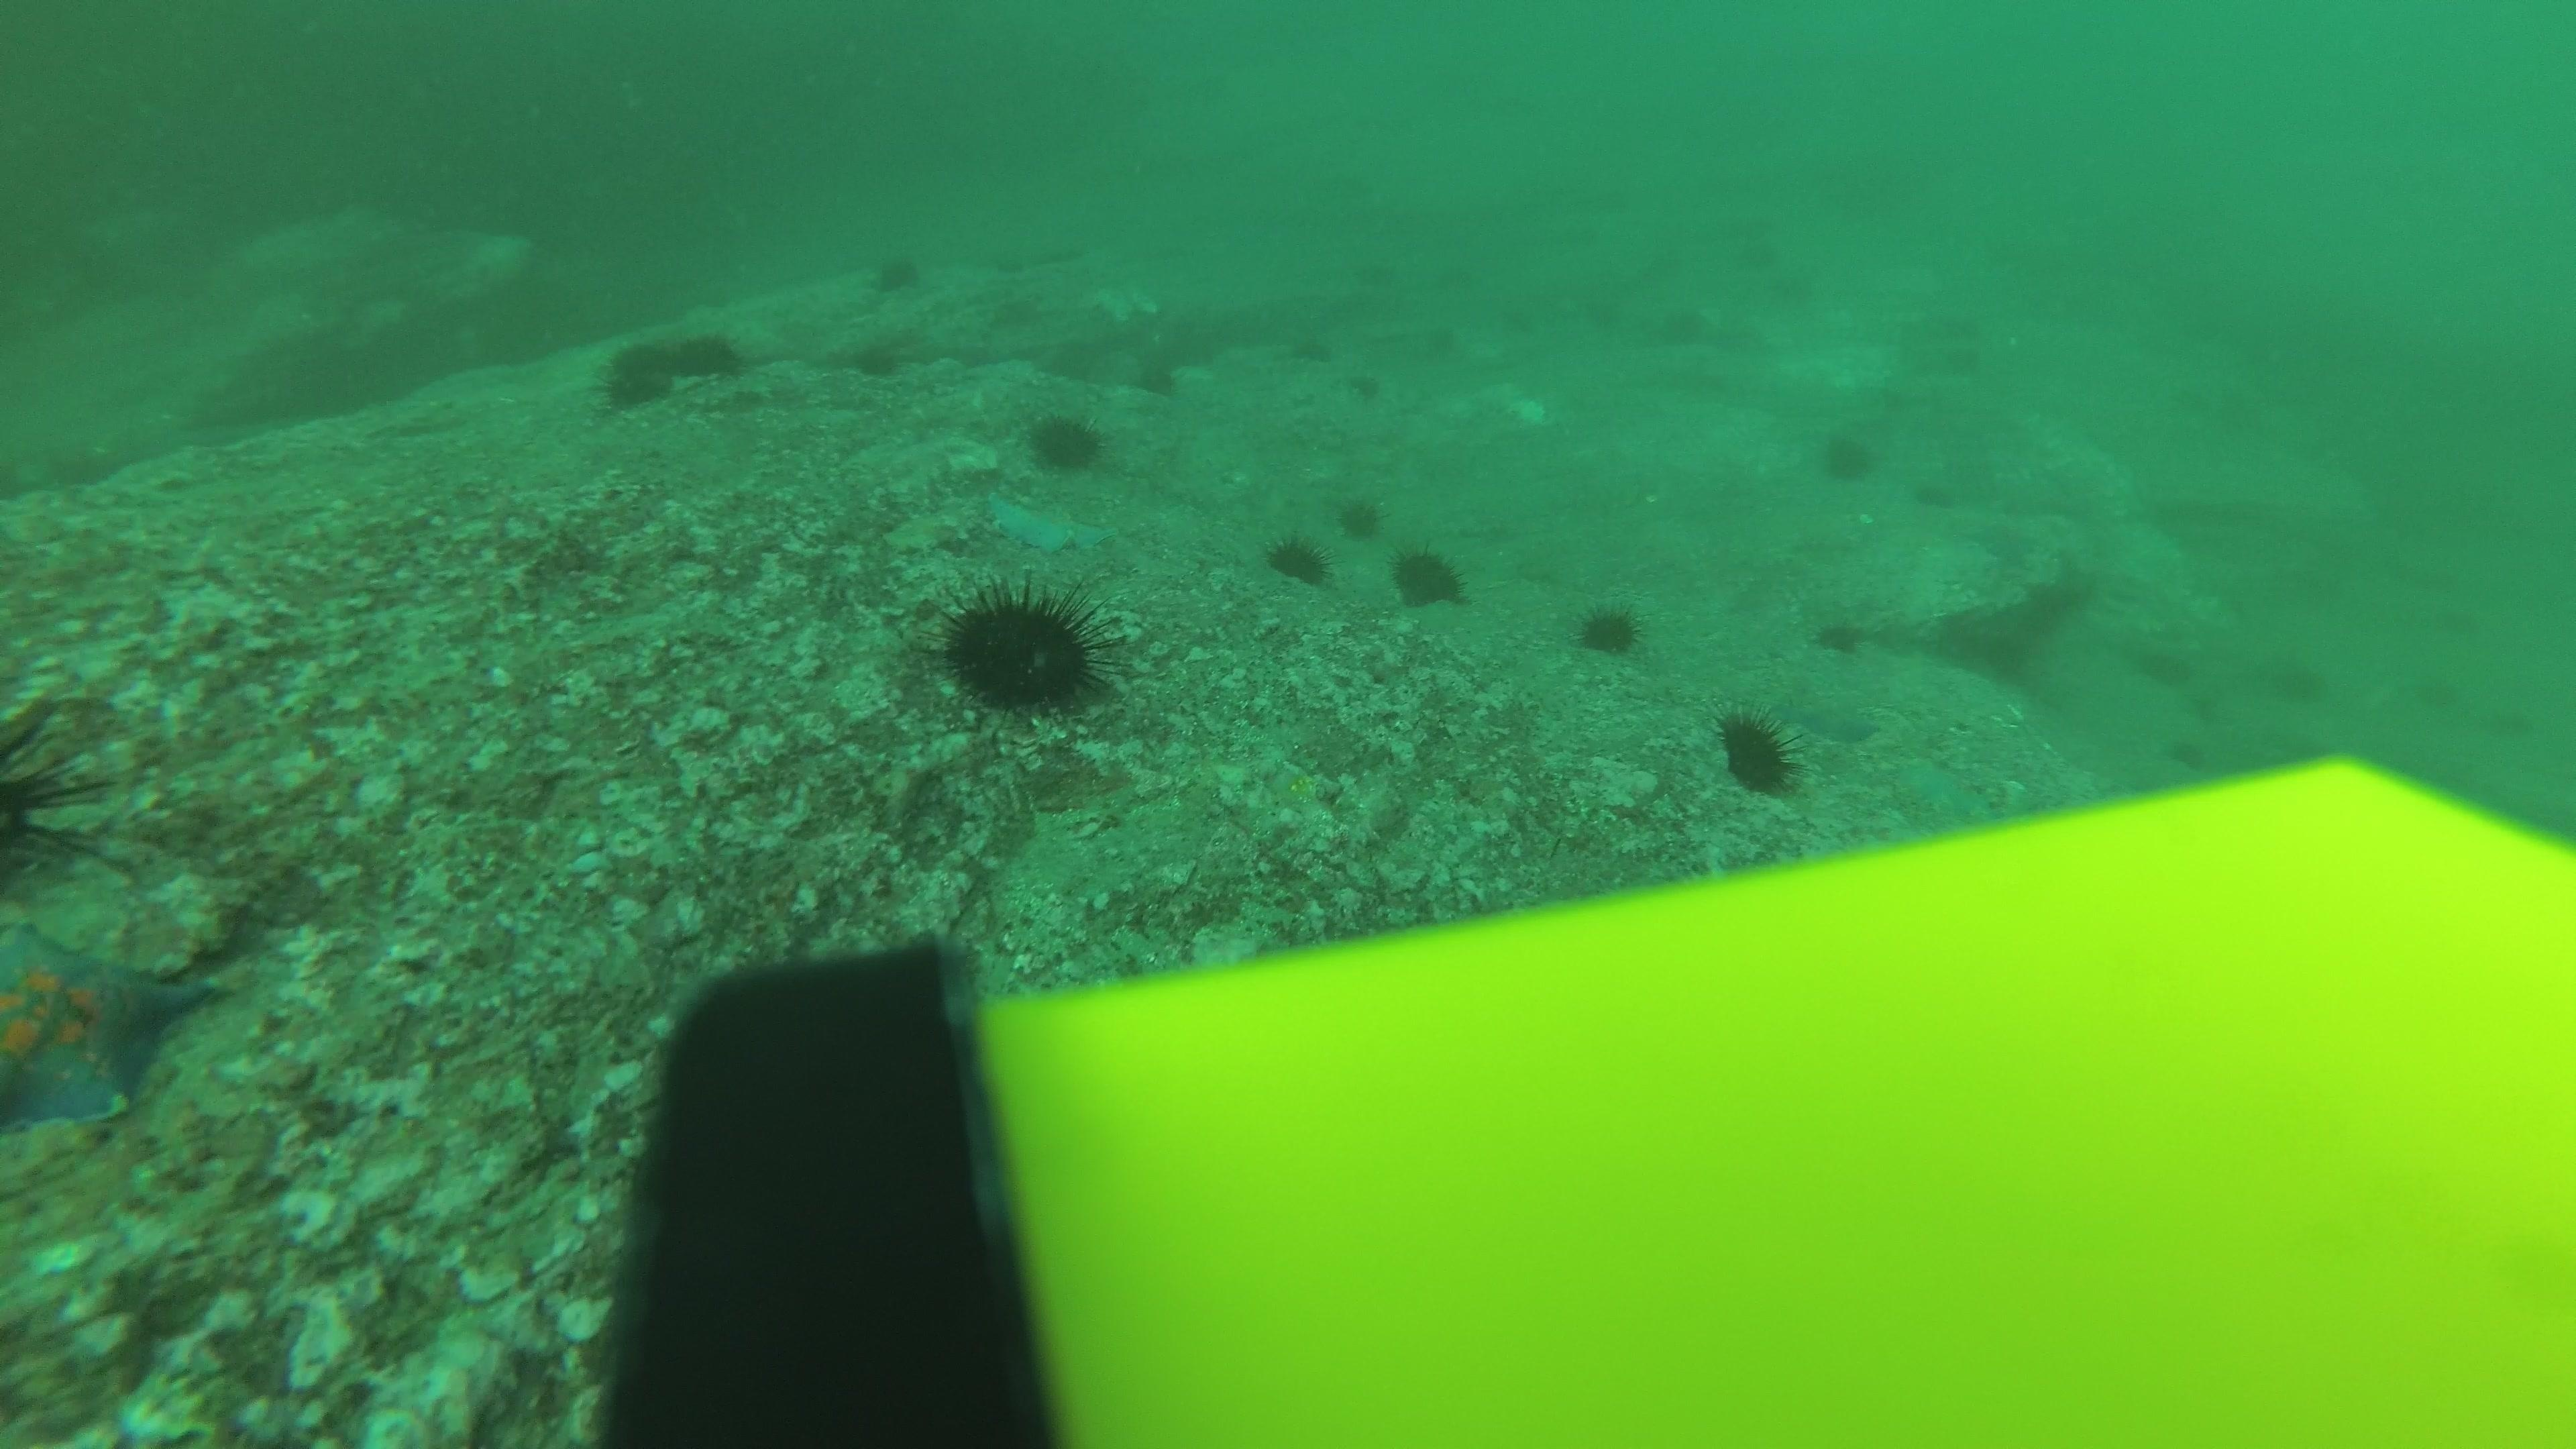echinus: (0, 702, 113, 913), (938, 580, 1109, 718), (1713, 706, 1803, 796), (1024, 403, 1108, 474), (1391, 541, 1467, 609), (1575, 596, 1645, 658), (676, 324, 747, 386), (1815, 423, 1879, 485), (1263, 527, 1329, 586), (596, 333, 669, 377), (605, 368, 679, 410), (849, 334, 908, 380), (869, 248, 924, 295), (1812, 610, 1867, 658), (1336, 492, 1384, 541), (2167, 736, 2210, 775), (2181, 697, 2224, 736), (2148, 648, 2190, 686), (2495, 702, 2537, 741), (2438, 603, 2480, 642), (1663, 306, 1706, 345), (2277, 663, 2318, 702), (2427, 671, 2468, 709), (2415, 552, 2456, 591), (1913, 478, 1953, 517), (1587, 294, 1628, 333), (1500, 301, 1541, 340), (1424, 322, 1463, 356), (1346, 366, 1385, 400), (1292, 338, 1330, 372), (1431, 262, 1470, 295), (1348, 253, 1387, 287), (1739, 239, 1778, 272), (1776, 274, 1815, 308), (1943, 341, 1982, 375), (1941, 313, 1980, 347)
starfish: (2, 915, 225, 1136), (982, 488, 1115, 557), (1884, 750, 1997, 819), (1769, 690, 1882, 747), (1253, 752, 1341, 821)
